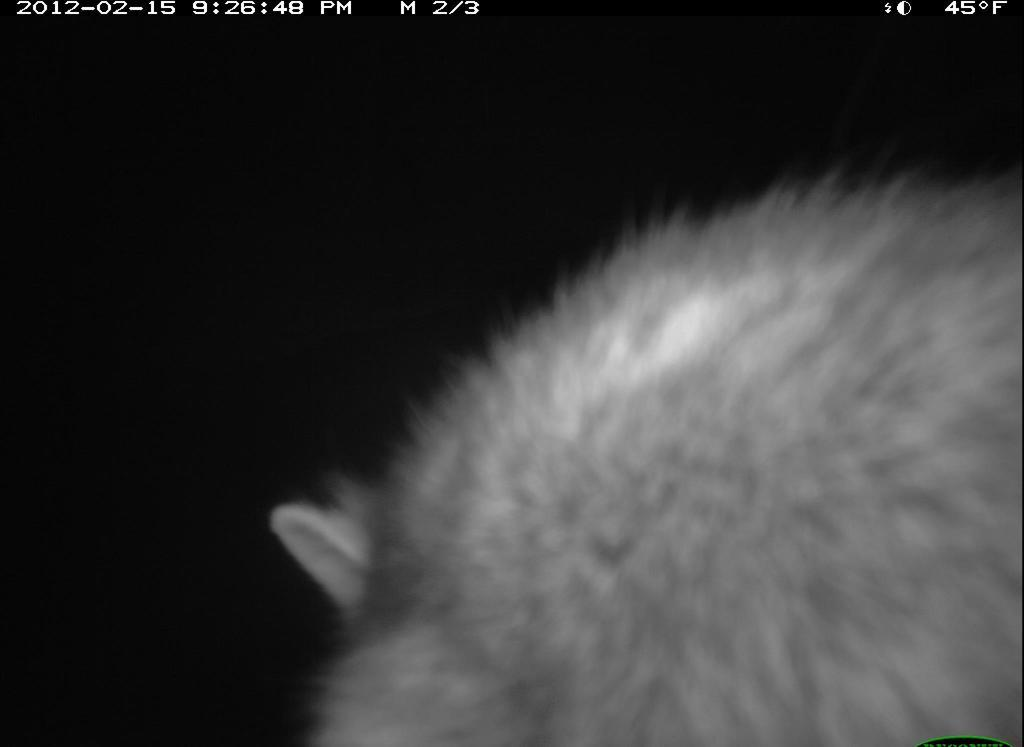raccoon: (254, 166, 1023, 747)
